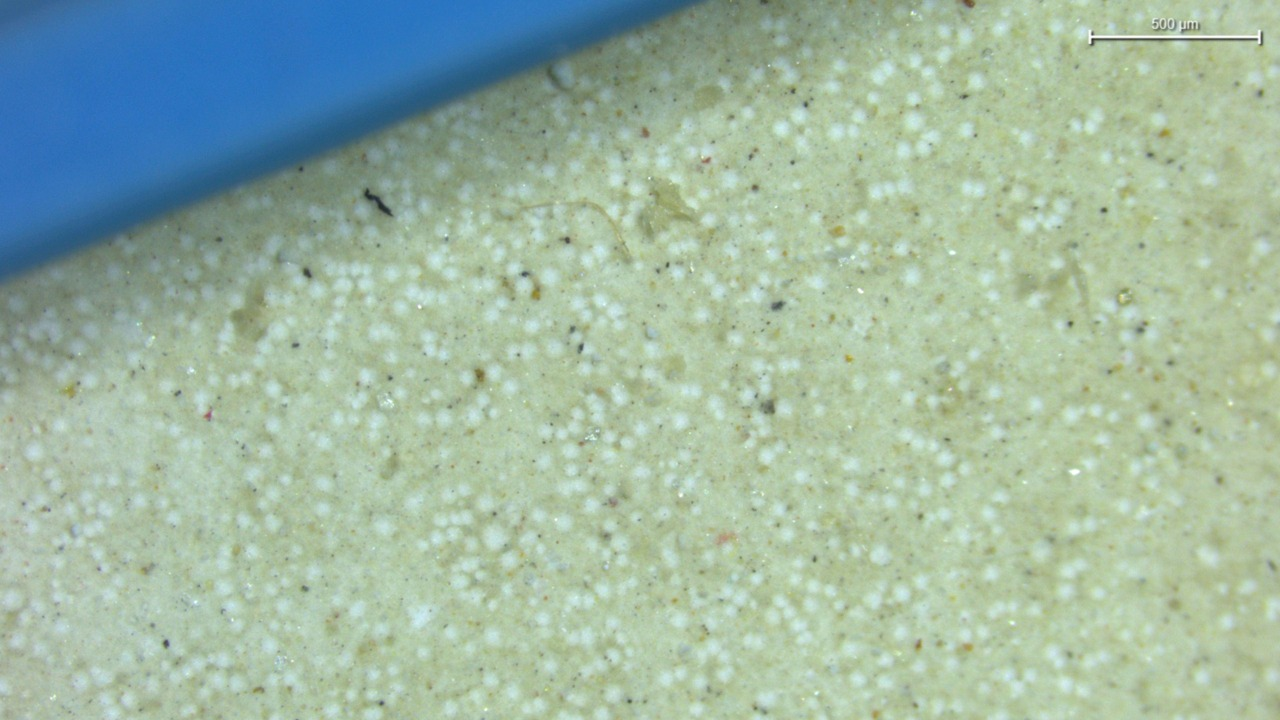microplastic_fragment: (637, 177, 698, 236)
